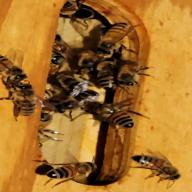Bee: (131, 152, 184, 184), (100, 16, 140, 56), (44, 161, 108, 185), (94, 107, 151, 132), (7, 81, 44, 119), (101, 61, 147, 88)
